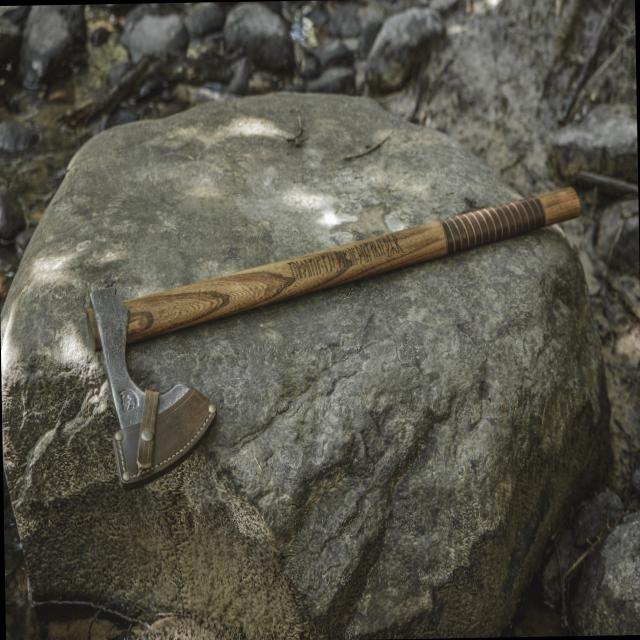Gun: (72, 164, 610, 464)
